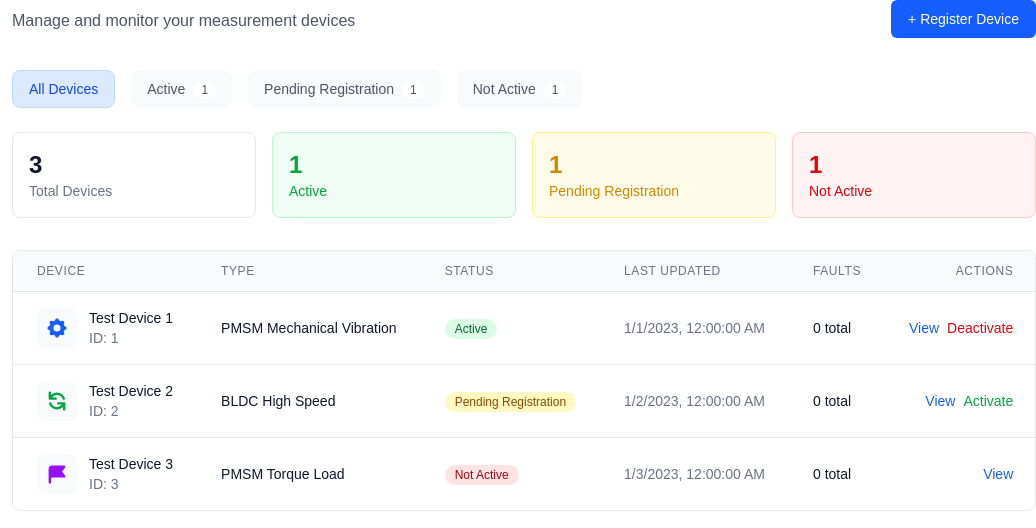
Test: DevicesPage › shows all filters and applies them correctly
The width and height of the screenshot is (1036, 528).
Expected: the link "Test Device 1" is shown, [89,310,173,326]
Expected: the button "All Devices" is shown, [12,70,115,108]
What coordinates should you click on to do the following:
click the button "Pending Registration1"
I would click on:
 (344, 89)
Its box is [248,70,441,108].
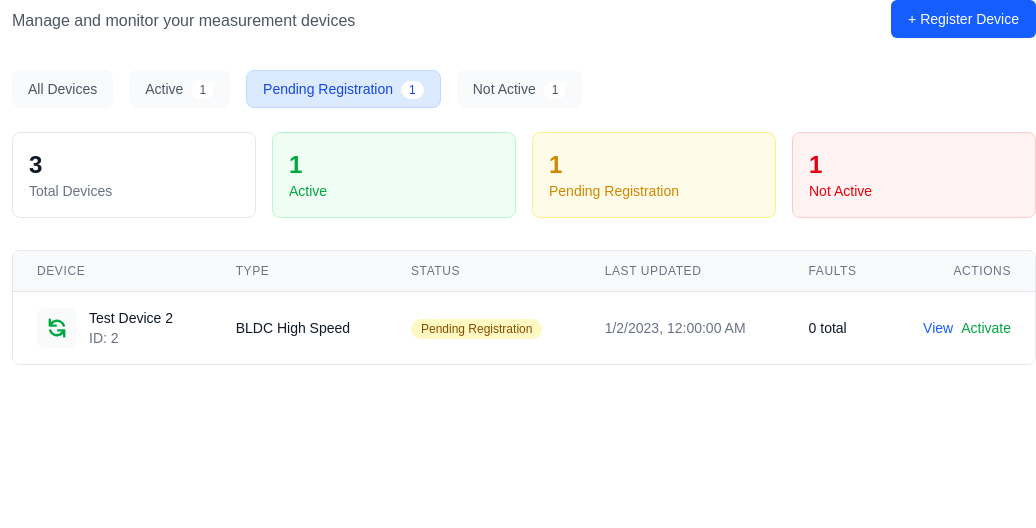
Expected: the link "Test Device 2" is shown, [89,310,173,326]
Now the link "Test Device 1" is gone
